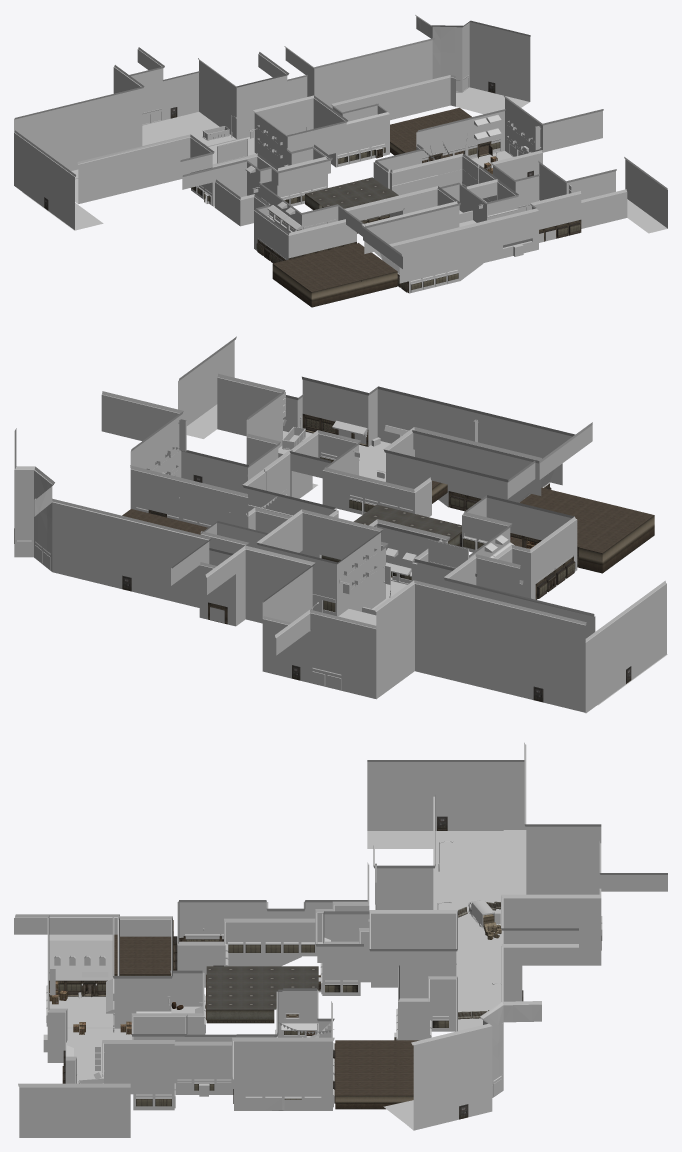
File: Downtown2_World.obj
3 renders of one model, top to bottom at view 1: azimuth 30°, elevation 25°; view 2: azimuth 150°, elevation 25°; view 3: azimuth 270°, elevation 25°, orthographic. The views are drawn at different scales.
Visible parts, largest first — view 1: Downtown_out, Downtown_In, Downtown_Object, Paper Alpha; view 2: Downtown_out, Downtown_In, Downtown_Object, Paper Alpha; view 3: Downtown_out, Downtown_In, Downtown_Object.
Part boxes in pixels (box(x1,y1,x2,y2)): Downtown_out: box(14, 15, 667, 293); Downtown_In: box(272, 108, 488, 307); Downtown_Object: box(202, 114, 572, 230); Paper Alpha: box(206, 123, 534, 199); Downtown_out: box(14, 336, 667, 713); Downtown_In: box(122, 480, 654, 577); Downtown_Object: box(146, 391, 514, 609); Paper Alpha: box(147, 447, 385, 607); Downtown_out: box(14, 742, 667, 1137); Downtown_In: box(86, 920, 419, 1109); Downtown_Object: box(49, 841, 503, 1089).
Bounding box in the file's own units: 130 × 24.43 × 119.
